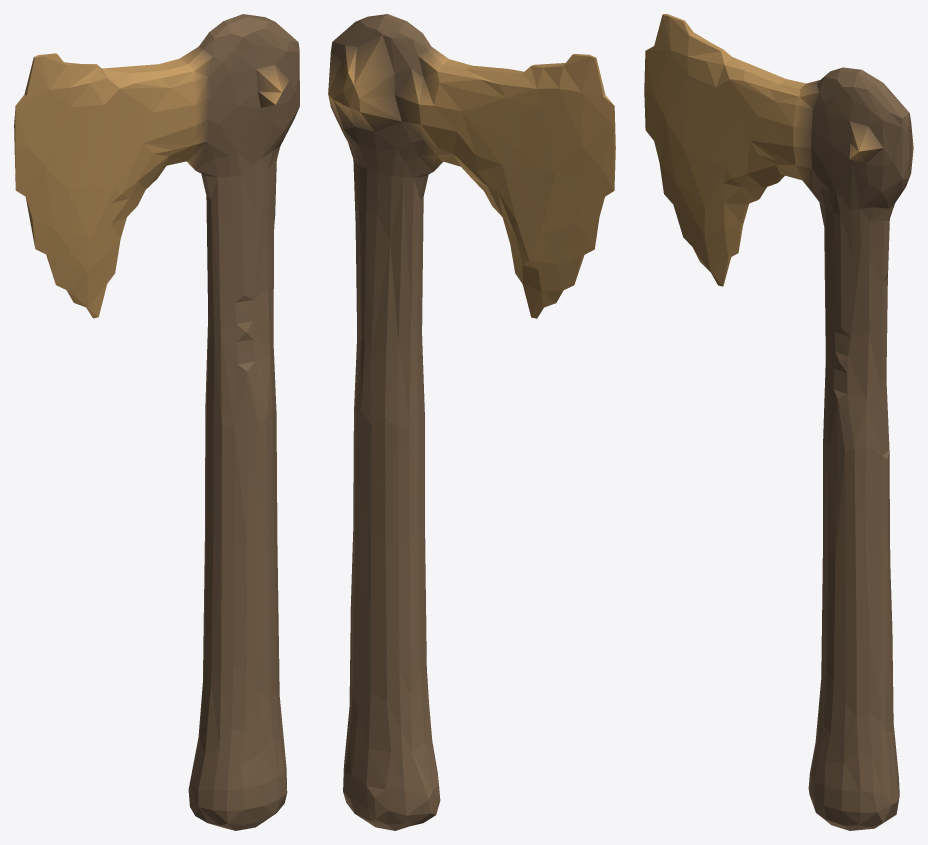
File: axe_pyreglass.glb
3 views of the same model, side by side, from view 1: azimuth 30°, elevation 25°; view 2: azimuth 150°, elevation 25°; view 3: azimuth 330°, elevation 25° (orthographic). The views are drawn at different scales.
Visible parts, largest first — view 1: world; view 2: world; view 3: world.
Boxes of the visible parts, box(x1,y1,x2,y2) form: world: box(14, 14, 299, 830); world: box(328, 14, 615, 830); world: box(644, 14, 913, 830).
Bounding box in the file's own units: 0.3624 × 1 × 0.0932.
